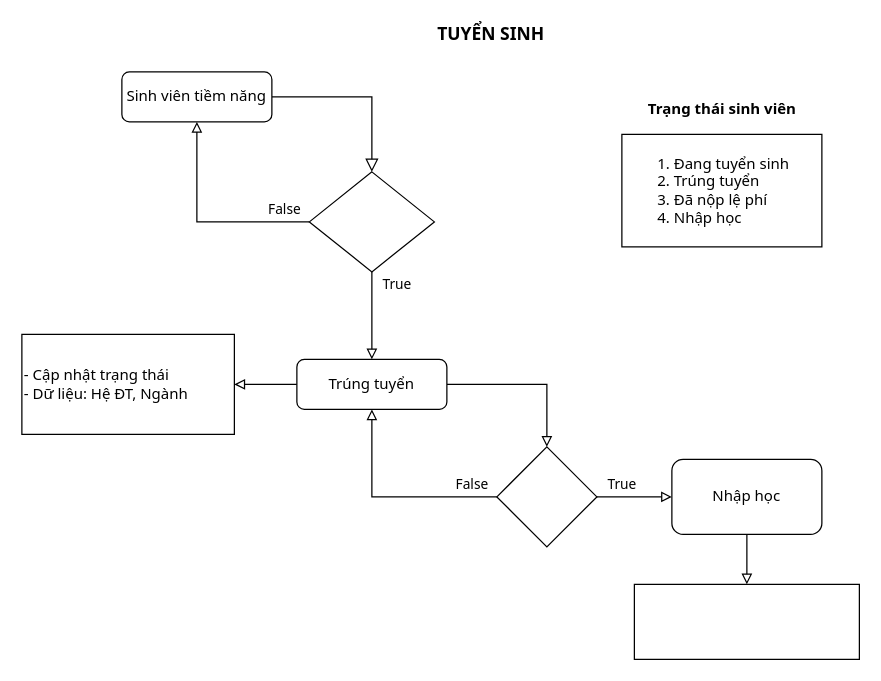
Image size: 881x681. Some labels were removed from this diagram. Each missing label, with the centre of its shape:
- Cập nhật vào bảng sinh viên - Dữ liệu: Lớp, MSV, Ngày nhập: (746,621)
Nộp lệ phí: (546,496)
Xét tuyển: (371,221)
